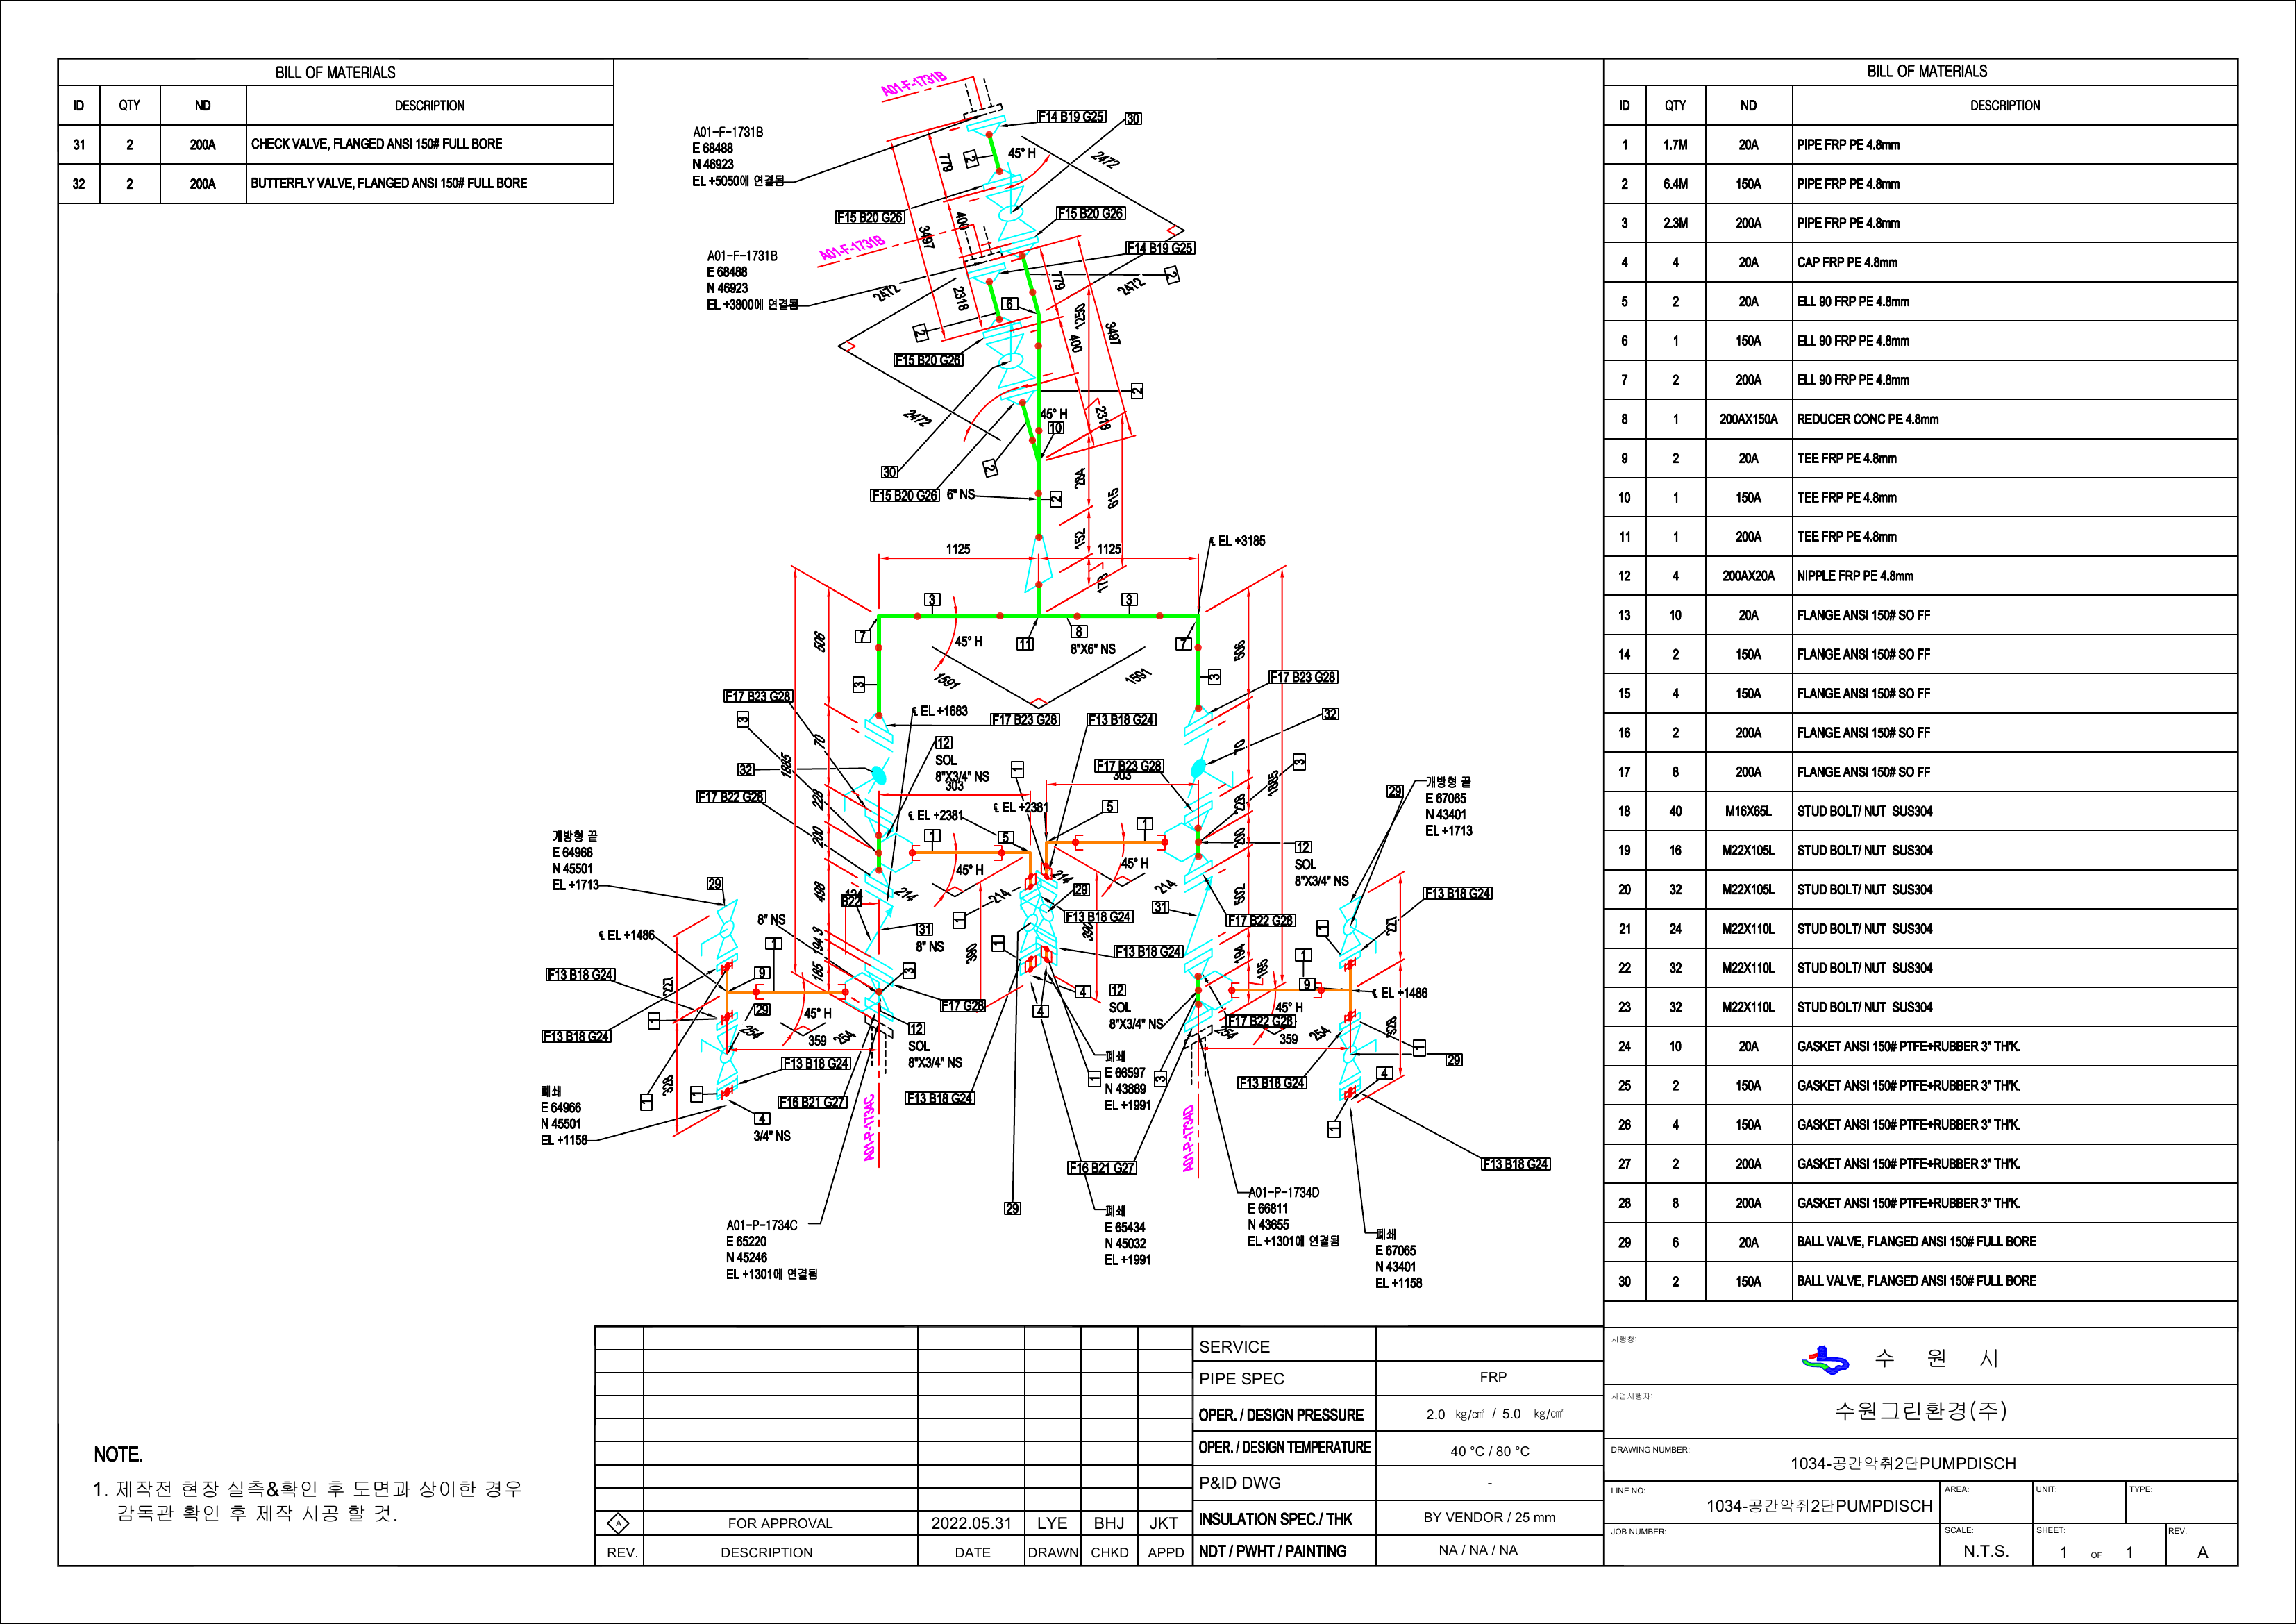table: (1597, 47, 2264, 1313)
